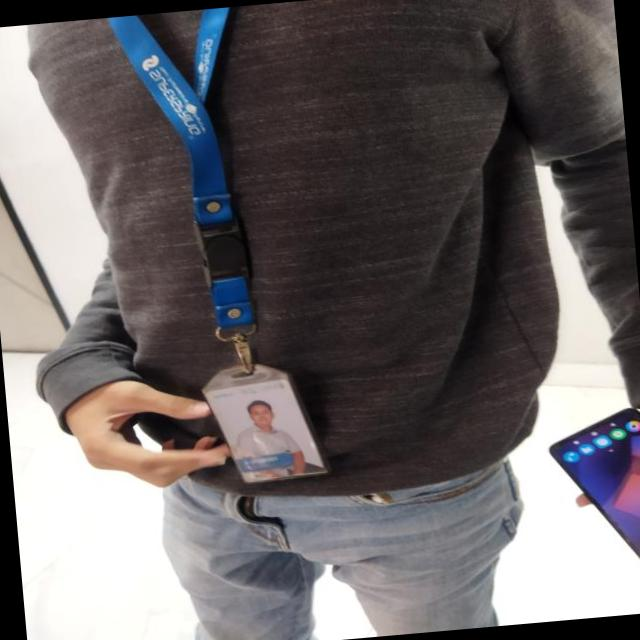id_card: (110, 4, 344, 497)
